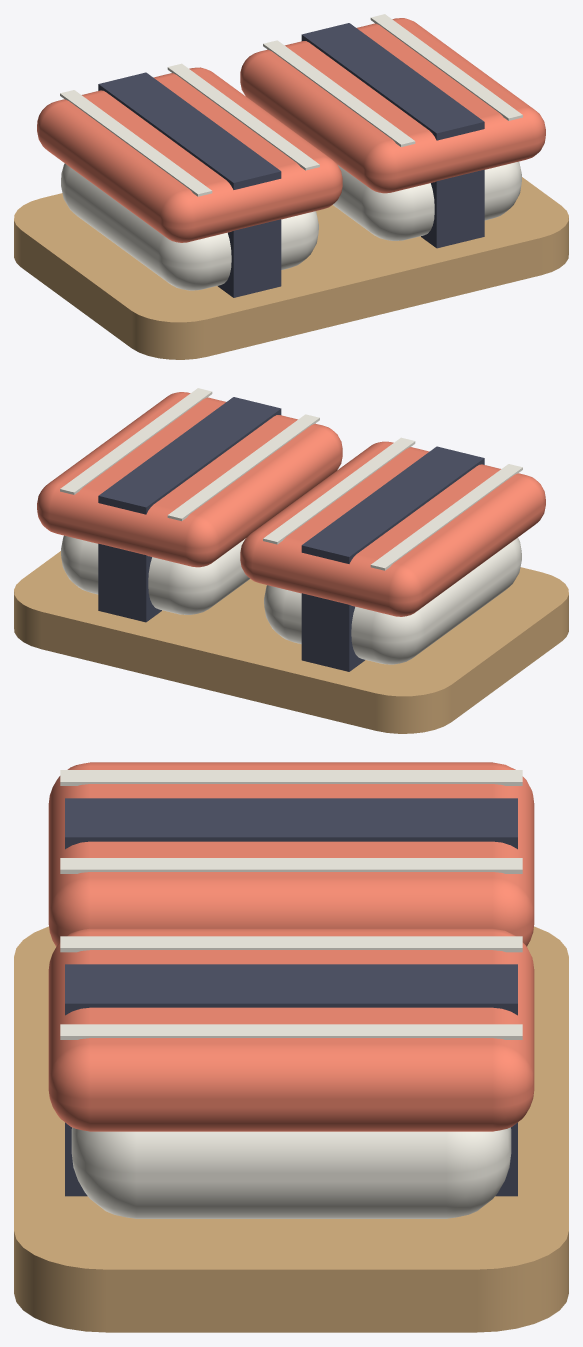
Rendered from Sushi.glb.
The picture shows the model from 3 angles, top to bottom: view 1: azimuth 30°, elevation 25°; view 2: azimuth 150°, elevation 25°; view 3: azimuth 270°, elevation 25°; orthographic projection. The views are drawn at different scales.
Visible parts, largest first — view 1: sushiFish (×2), sushiWood, sushiRice (×6), screenDark (×2); view 2: sushiFish (×2), sushiWood, sushiRice (×6), screenDark (×2); view 3: sushiFish (×2), sushiWood, sushiRice (×5), screenDark (×2).
Boxes of the visible parts, x1,y1,x2,y2 form: sushiFish (×2): [37, 18, 545, 242]; sushiWood: [14, 177, 568, 359]; sushiRice (×6): [60, 14, 522, 290]; screenDark (×2): [98, 23, 484, 297]; sushiFish (×2): [37, 392, 545, 616]; sushiWood: [14, 551, 568, 733]; sushiRice (×6): [60, 388, 522, 664]; screenDark (×2): [98, 397, 484, 671]; sushiFish (×2): [48, 762, 534, 1131]; sushiWood: [14, 926, 568, 1332]; sushiRice (×5): [60, 770, 522, 1218]; screenDark (×2): [65, 798, 517, 1196].
Size of the model in its own units: 0.36 by 0.122 by 0.24.
